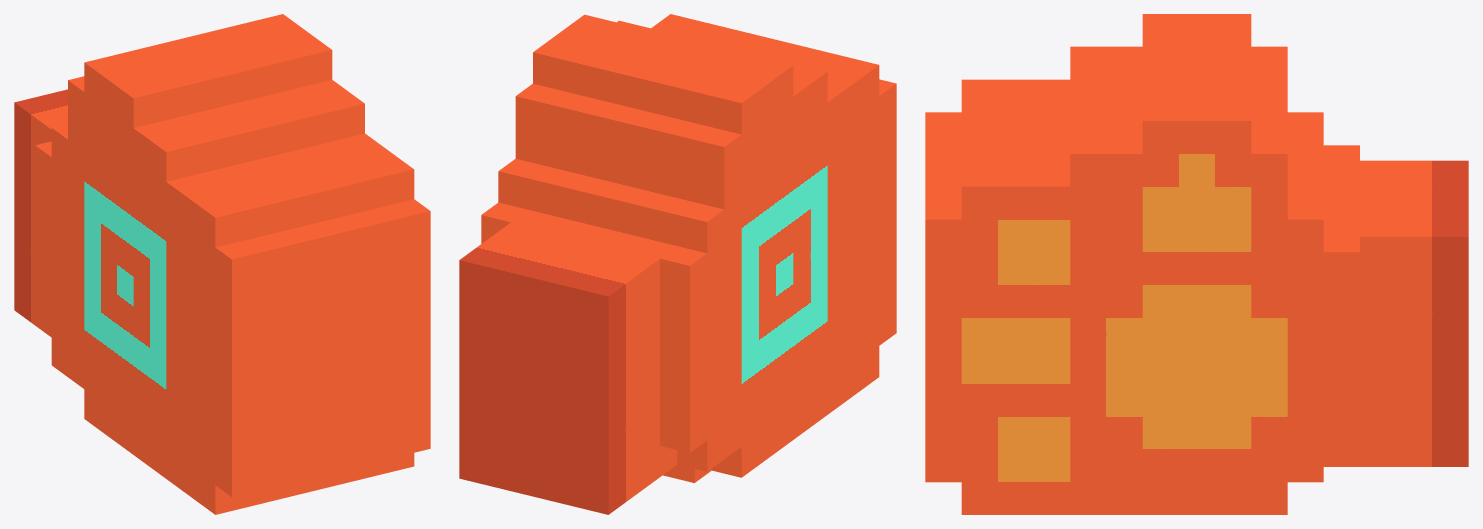
Rendered from 吉吉喵的手.gltf.
The picture shows the model from 3 angles, left to right: view 1: azimuth 30°, elevation 25°; view 2: azimuth 150°, elevation 25°; view 3: azimuth 270°, elevation 25°; orthographic projection. The views are drawn at different scales.
Parts seen in each view (by area): view 1: Object; view 2: Object; view 3: Object.
Boxes of the visible parts, x1,y1,x2,y2 form: Object: (14, 14, 430, 514); Object: (459, 14, 896, 514); Object: (925, 14, 1468, 514).
Bounding box in the file's own units: 7 × 12 × 15.
Materials: 1 (1 with a texture image).
